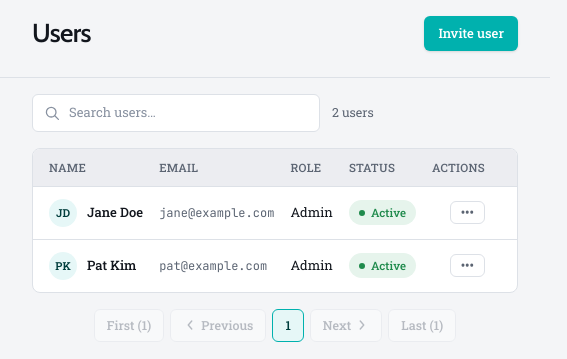
Test: UsersPage › shows the Actions column and a Delete button for other users' rows for a Customer Admin
Expected: the column heading "Actions" is shown, x1=432 y1=148 x2=517 y2=186
Click the button named "Actions for" at (467, 213), box x1=450 y1=201 x2=485 y2=224
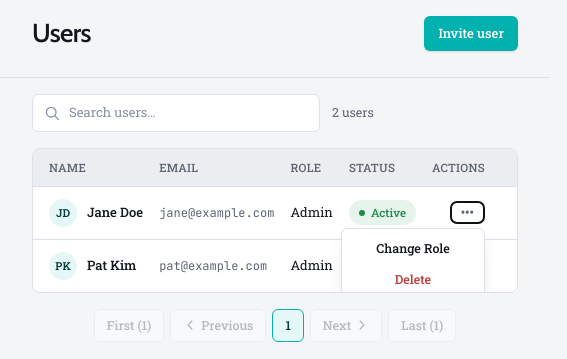
Expected: the menu item "Delete" is shown, x1=342 y1=264 x2=484 y2=293
